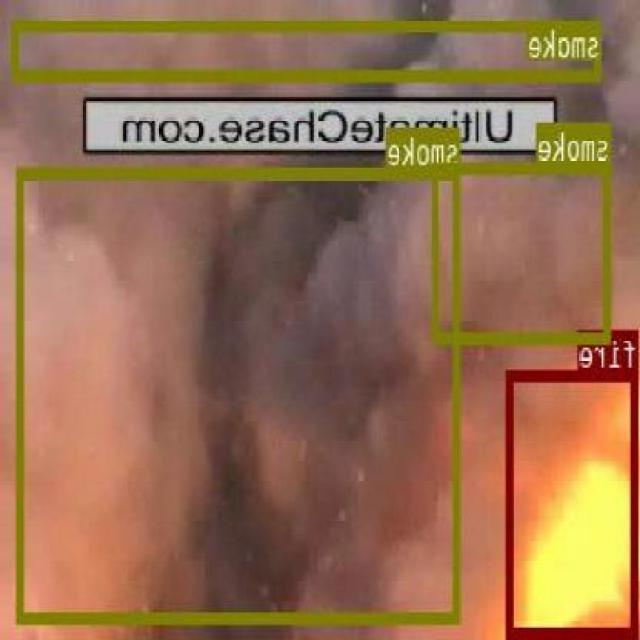Fire: (488, 372, 640, 634)
Smoke: (0, 167, 507, 640), (0, 0, 625, 332)
